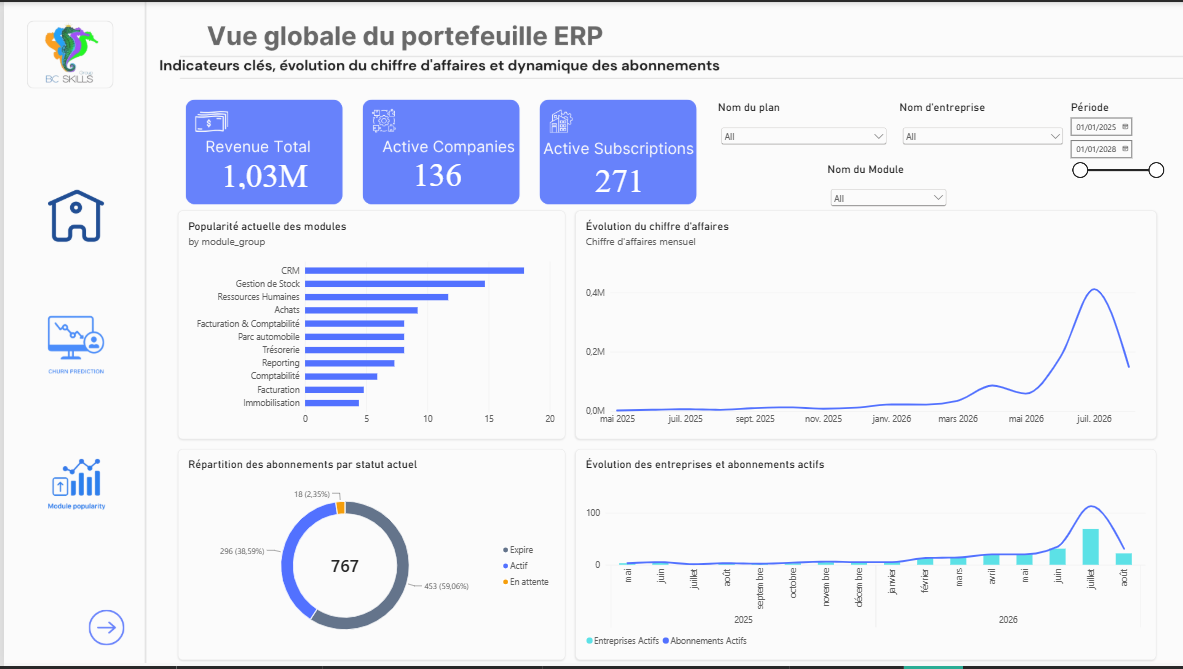

What the dashboard file says about the page in this screenshot:
{"tool":"powerbi","page":{"name":"vue global","canvas":[1920,1080],"ordinal":0},"visuals":[{"type":"card","fields":{"Values":["dwh_clean fact_payment.Revenue Total"]},"box":[336,236,174,84],"z":0},{"type":"card","fields":{"Values":["dwh_clean fact_subscription.Active Companies"]},"box":[620,234,170,88],"z":1000},{"type":"card","fields":{"Values":["dwh_clean fact_subscription.Active Subscriptions"]},"box":[895,235.8,212,100],"z":2000},{"type":"lineChart","title":"Évolution du chiffre d''affaires","fields":{"Category":["dwh_clean fact_payment.created_at.Variation.Hiérarchie de dates.Année","dwh_clean fact_payment.created_at.Variation.Hiérarchie de dates.Mois"],"Y":["dwh_clean fact_payment.Revenue Total"]},"box":[929.1,340,945.5,371.8],"z":3000},{"type":"lineStackedColumnComboChart","title":"Évolution des entreprises et abonnements actifs","fields":{"Category":["dwh_clean fact_subscription.created_at.Variation.Hiérarchie de dates.Année","dwh_clean fact_subscription.created_at.Variation.Hiérarchie de dates.Mois"],"Y":["dwh_clean fact_subscription.Active Companies"],"Y2":["dwh_clean fact_subscription.Active Subscriptions"]},"box":[929.1,726.4,944.5,343.6],"z":4000},{"type":"barChart","title":"Popularité actuelle des modules","fields":{"Category":["dwh_clean prediction_module_popularity.module_group"],"Y":["Sum(dwh_clean prediction_module_popularity.part_actuelle_pct)"]},"box":[281.8,340,630,371.8],"z":5000},{"type":"donutChart","title":"Répartition des abonnements par statut actuel","fields":{"Category":["dim_status_subscription.status_label"],"Y":["Count(dwh_clean fact_subscription.subscription_key)"]},"box":[281.8,726.4,630,343.6],"z":6000},{"type":"slicer","fields":{"Values":["dwh_clean dim_date.full_date"]},"box":[1728,160.3,163.3,160.3],"z":7000},{"type":"slicer","title":"Nom d''entreprise","fields":{"Values":["dwh_clean dim_company.name"]},"box":[1457.4,160.3,271.1,85.6],"z":8000},{"type":"slicer","title":"Nom du Module","fields":{"Values":["dwh_clean dim_module.module_group"]},"box":[1339.5,261.5,198,90],"z":9000},{"type":"slicer","title":"Nom du plan","fields":{"Values":["dwh_clean dim_plan.name"]},"box":[1161.1,160.3,278.9,117.8],"z":10000},{"type":"actionButton","box":[135.8,987.5,59.2,64.2],"z":11000},{"type":"actionButton","box":[58,732,108,106],"z":12000},{"type":"actionButton","box":[58,506,100,112],"z":13000}]}

Visuals, with their boxes in screenshot pixels (x1, y1, x2, y2), scaled from the page's 1920x1080 canvas onto the 1183x669 screenshot:
card - dwh_clean fact_payment.Revenue Total: select_region(207, 146, 314, 198)
card - dwh_clean fact_subscription.Active Companies: select_region(382, 145, 487, 199)
card - dwh_clean fact_subscription.Active Subscriptions: select_region(551, 146, 682, 208)
"Évolution du chiffre d''affaires" lineChart: select_region(572, 211, 1155, 441)
"Évolution des entreprises et abonnements actifs" lineStackedColumnComboChart: select_region(572, 450, 1154, 663)
"Popularité actuelle des modules" barChart: select_region(174, 211, 562, 441)
"Répartition des abonnements par statut actuel" donutChart: select_region(174, 450, 562, 663)
slicer - dwh_clean dim_date.full_date: select_region(1065, 99, 1165, 199)
"Nom d''entreprise" slicer: select_region(898, 99, 1065, 152)
"Nom du Module" slicer: select_region(825, 162, 947, 218)
"Nom du plan" slicer: select_region(715, 99, 887, 172)
actionButton: select_region(84, 612, 120, 651)
actionButton: select_region(36, 453, 102, 519)
actionButton: select_region(36, 313, 97, 383)
